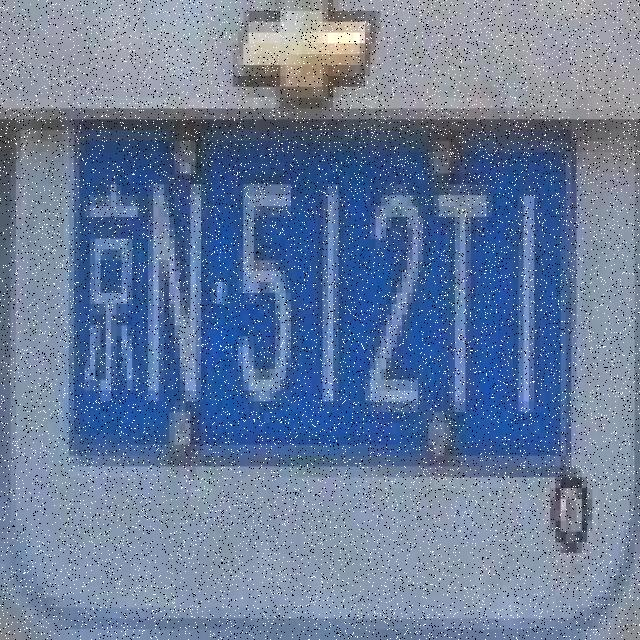licenseplate: (51, 84, 588, 500)
